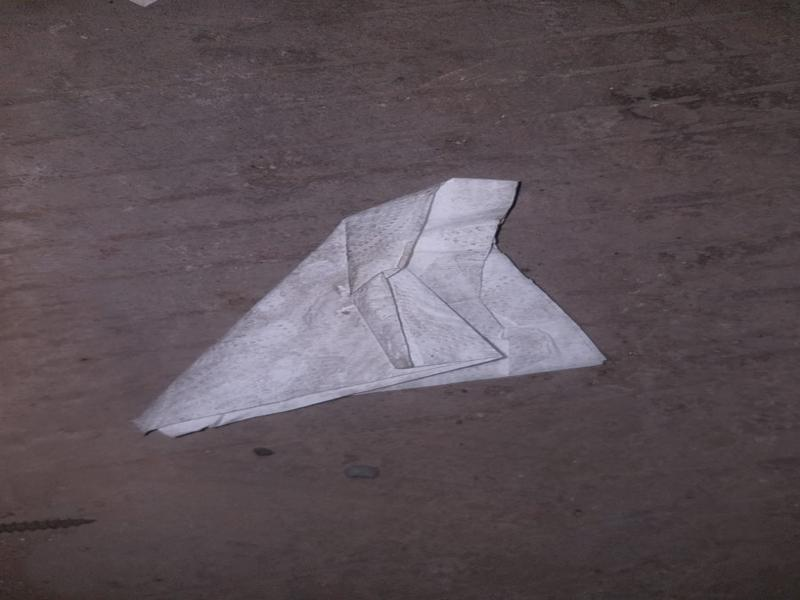papel: (131, 178, 606, 441)
